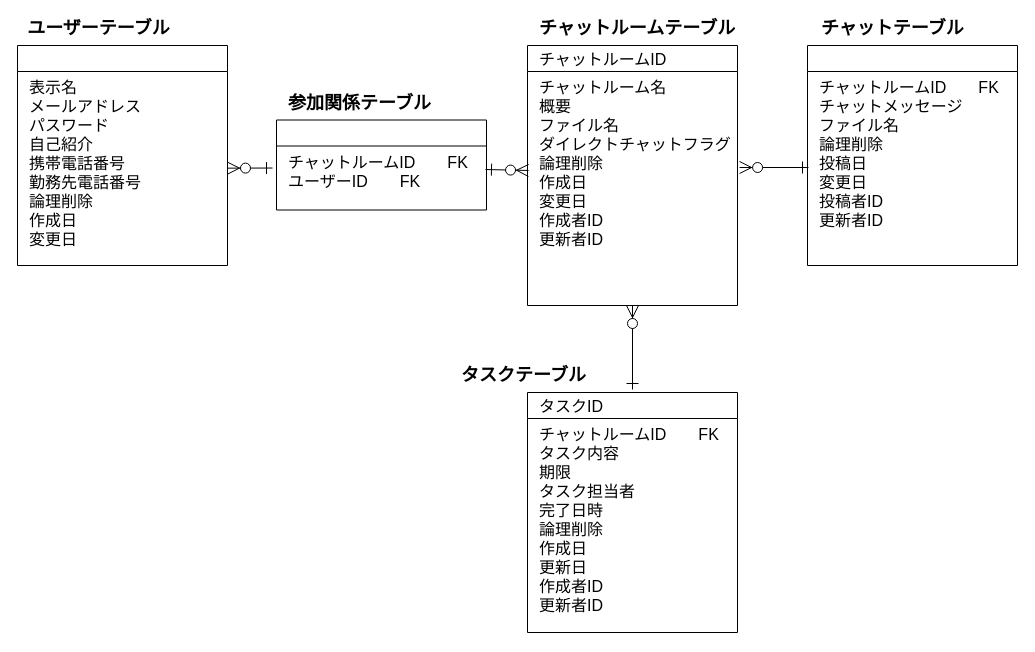
Image size: 1035x652. Some labels were removed from this diagram. Here are the shapes that lost their labels. From the top down, the box of each, then its label:
(16, 44, 228, 266): ユーザーID
(806, 44, 1018, 266): チャットID
